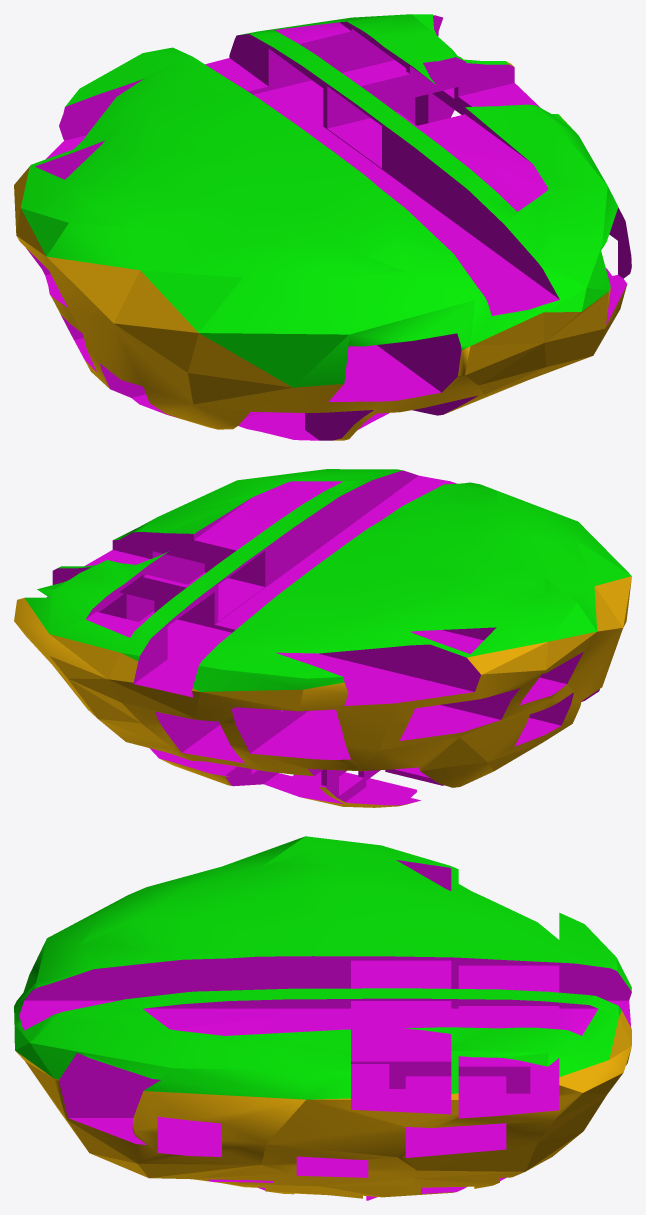
The model's file is LandChunkD_Glitch.fbx.
The picture shows the model from 3 angles, top to bottom: view 1: azimuth 30°, elevation 25°; view 2: azimuth 150°, elevation 25°; view 3: azimuth 270°, elevation 25°; orthographic projection. The views are drawn at different scales.
Parts seen in each view (by area): view 1: LandChunkD_Glitch; view 2: LandChunkD_Glitch; view 3: LandChunkD_Glitch.
Part boxes in pixels (box(x1,y1,x2,y2)): LandChunkD_Glitch: box(14, 14, 631, 440); LandChunkD_Glitch: box(14, 469, 631, 807); LandChunkD_Glitch: box(14, 836, 631, 1200).
Bounding box in the file's own units: 34.63 × 15.12 × 36.74.
